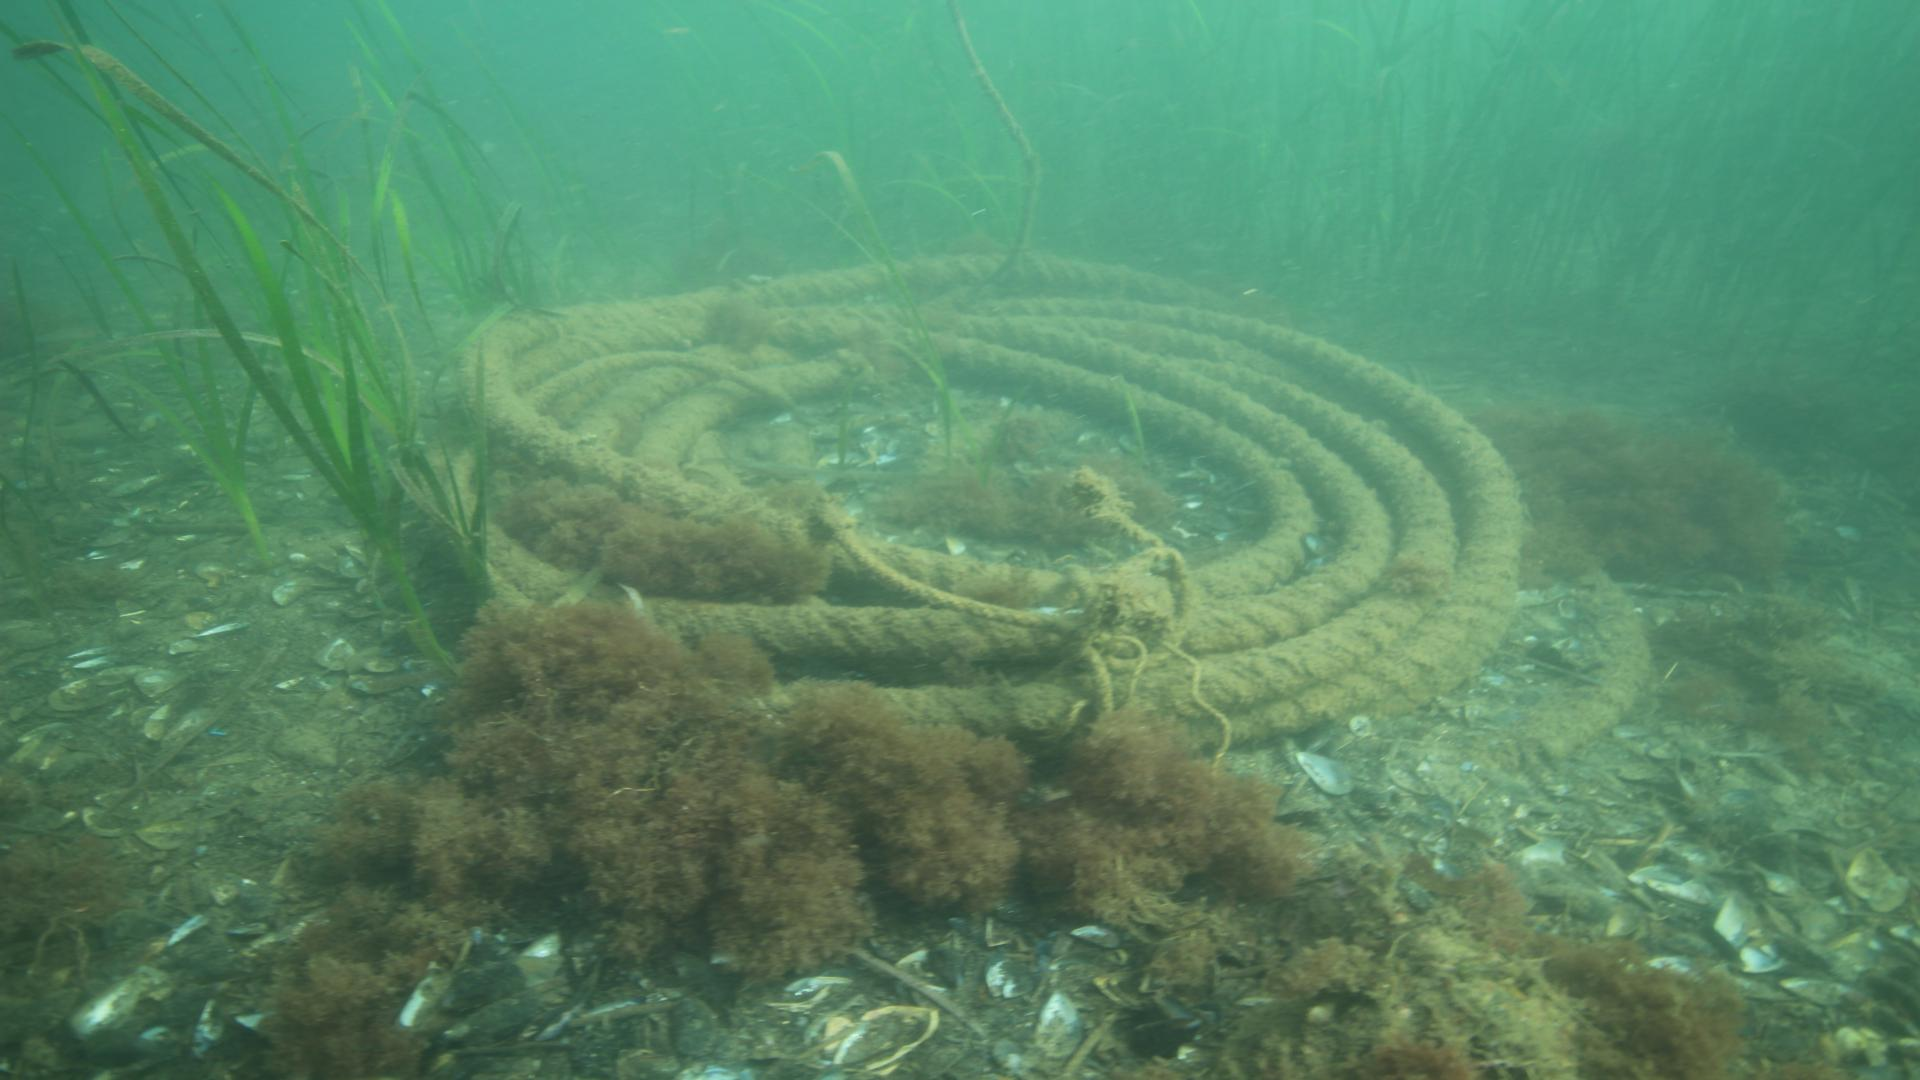bundle of ropes: (438, 251, 1652, 764)
